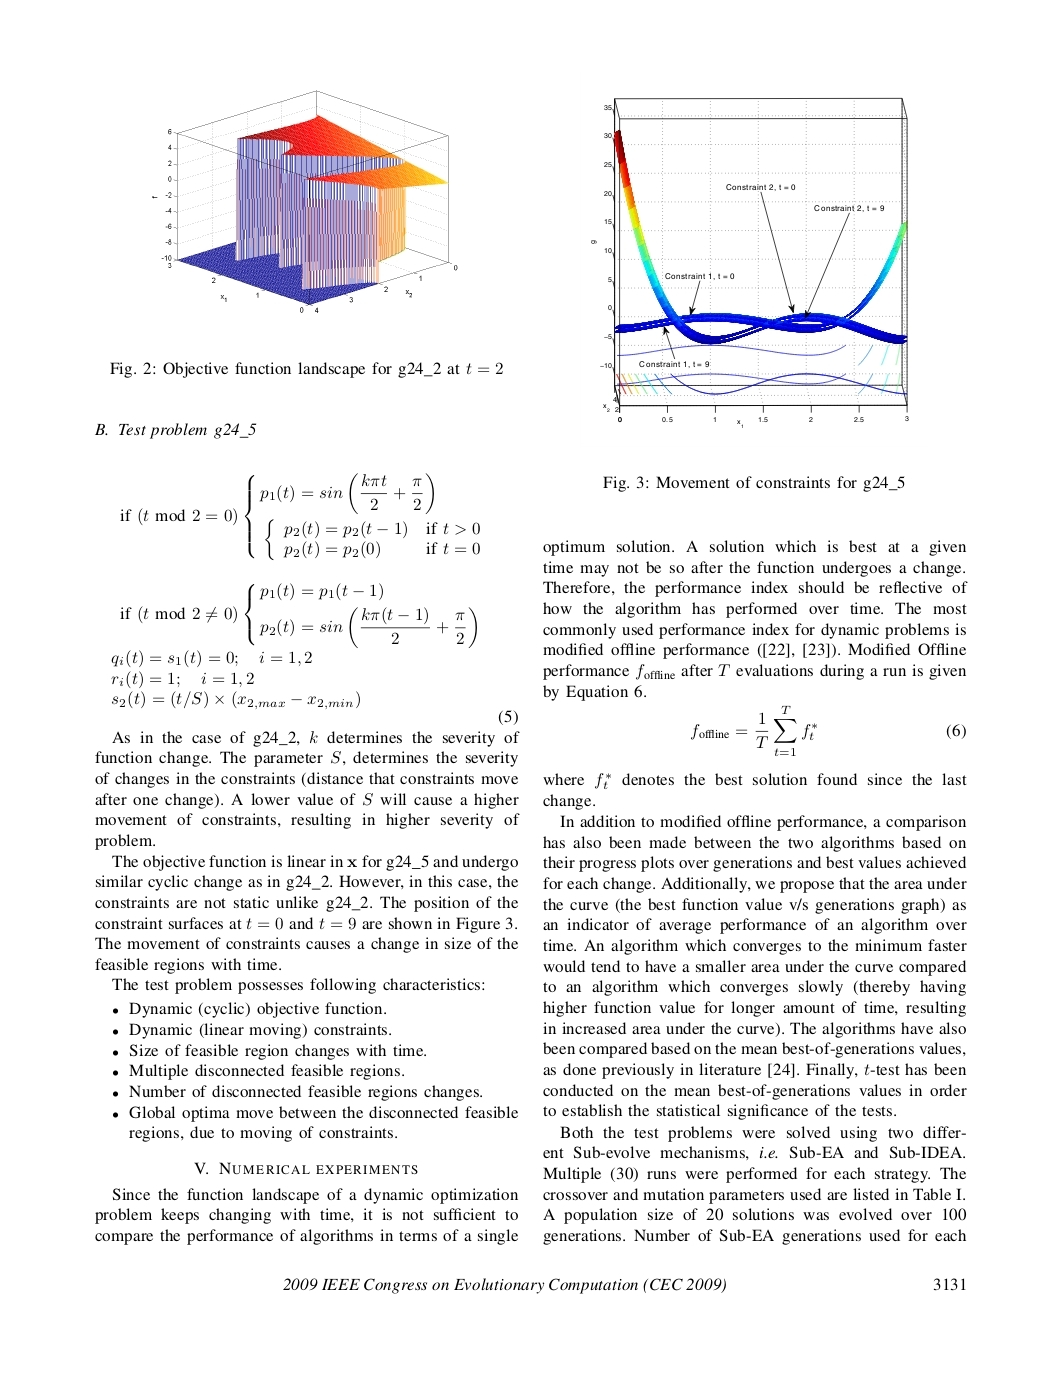figure: (591, 97, 908, 427), (152, 89, 457, 313)
formula: (111, 582, 476, 668), (120, 473, 479, 559), (111, 690, 517, 726), (691, 704, 965, 756), (111, 670, 253, 689)
